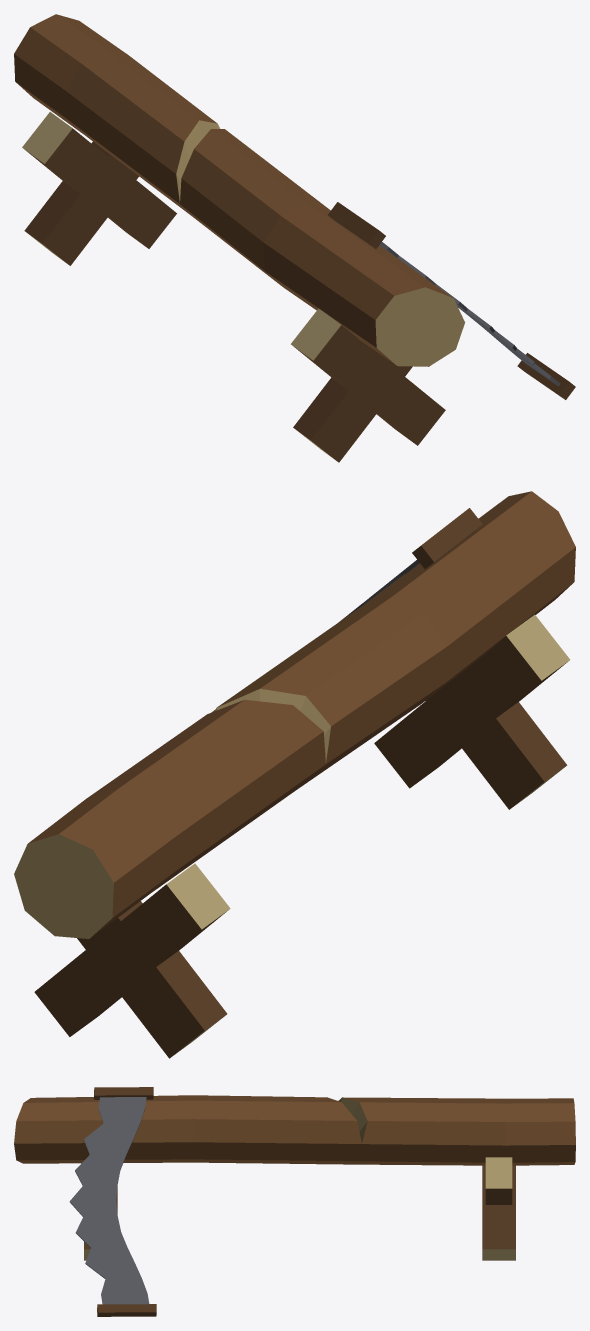
Rendered from Sawmill_saw.glb.
3 views of the same model, one above another, from view 1: azimuth 30°, elevation 25°; view 2: azimuth 150°, elevation 25°; view 3: azimuth 270°, elevation 25° (orthographic). The views are drawn at different scales.
Visible parts, largest first — view 1: Sawmill_saw; view 2: Sawmill_saw; view 3: Sawmill_saw.
Boxes of the visible parts, <box> form: Sawmill_saw: <box>14,14,575,462</box>; Sawmill_saw: <box>14,491,575,1058</box>; Sawmill_saw: <box>14,1087,575,1316</box>.
Bounding box in the file's own units: 0.7053 × 0.5414 × 1.7.
